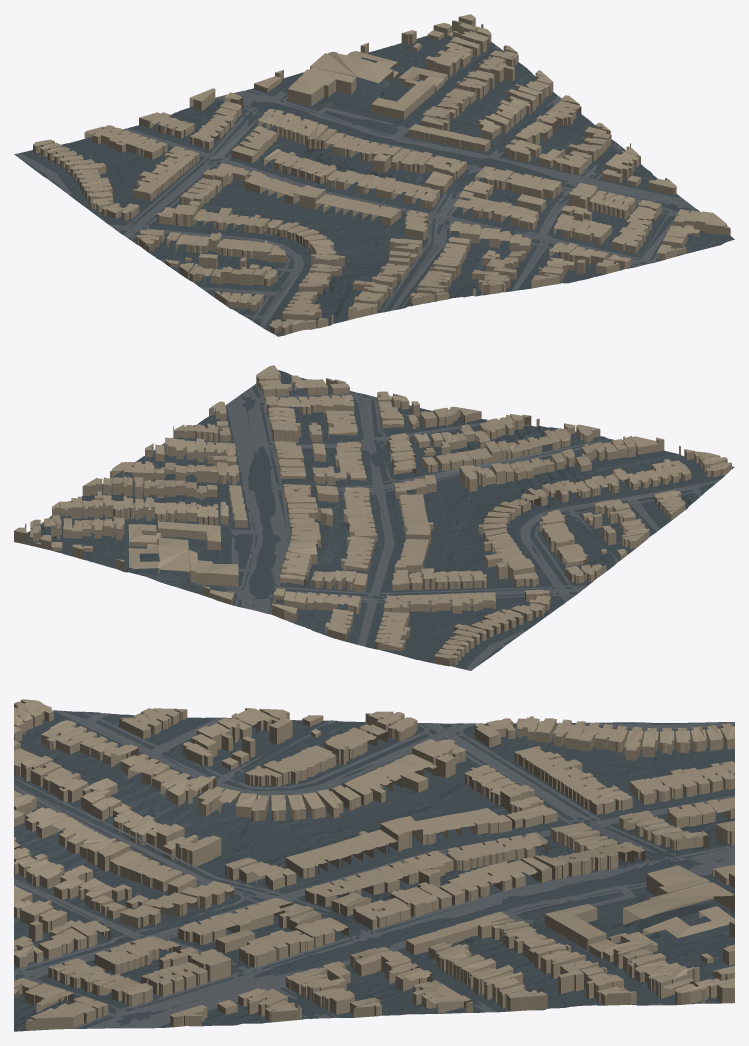
File: epsg26910-1431-10874.lod0.glb
3 renders of one model, top to bottom at view 1: azimuth 30°, elevation 25°; view 2: azimuth 150°, elevation 25°; view 3: azimuth 270°, elevation 25°, orthographic. The views are drawn at different scales.
Parts seen in each view (by area): view 1: epsg26910-1431-10874-lod0; view 2: epsg26910-1431-10874-lod0; view 3: epsg26910-1431-10874-lod0.
Part boxes in pixels (x1=…): epsg26910-1431-10874-lod0: x1=14, y1=14, x2=734, y2=336; epsg26910-1431-10874-lod0: x1=14, y1=365, x2=734, y2=670; epsg26910-1431-10874-lod0: x1=14, y1=699, x2=734, y2=1031.
Size of the model in its own units: 384 by 29.5 by 384.
